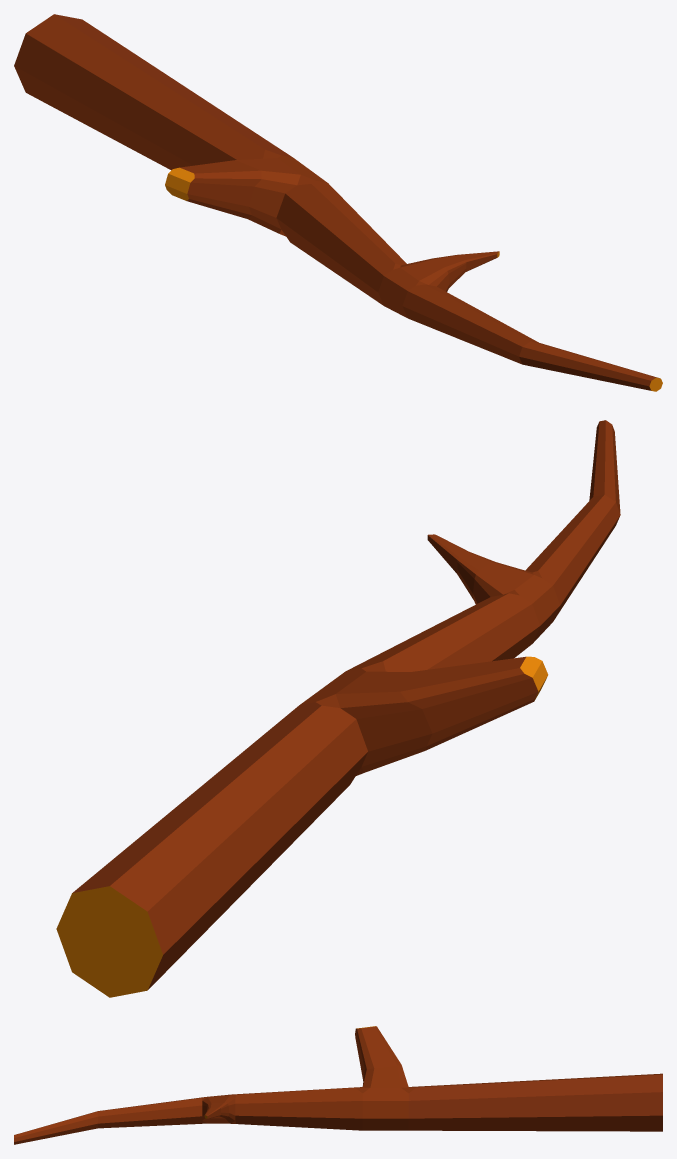
Rendered from Stick_13.fbx.
The picture shows the model from 3 angles, top to bottom: view 1: azimuth 30°, elevation 25°; view 2: azimuth 150°, elevation 25°; view 3: azimuth 270°, elevation 25°; orthographic projection. The views are drawn at different scales.
Visible parts, largest first — view 1: Circle.021; view 2: Circle.021; view 3: Circle.021.
Part boxes in pixels (x1,y1,x2,y2): Circle.021: [14, 14, 662, 391]; Circle.021: [56, 420, 620, 997]; Circle.021: [14, 1026, 662, 1144].
Size of the model in its own units: 9.65 by 4.52 by 35.85.
